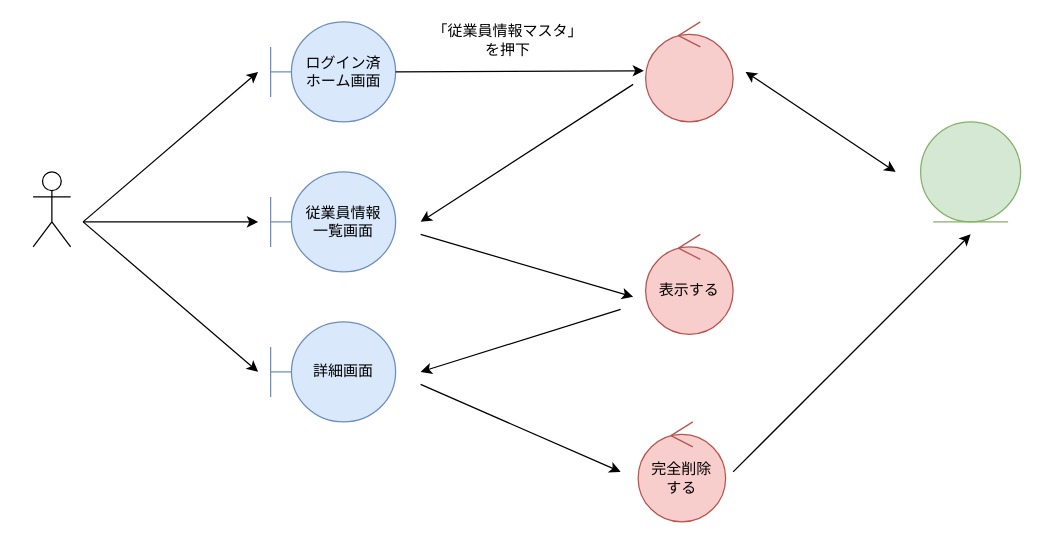
Some shapes in this 1043 by 544 pixel diagram are drawn without their labels. The shapes that lost their labels are listed below. From the top down, each one's box as (x1, y1, x2, y2) in pixels, then its label:
(644, 21, 733, 122): 従業員情報 を取得する
(919, 121, 1021, 222): 従業員情報
(32, 171, 71, 247): 正規社員
